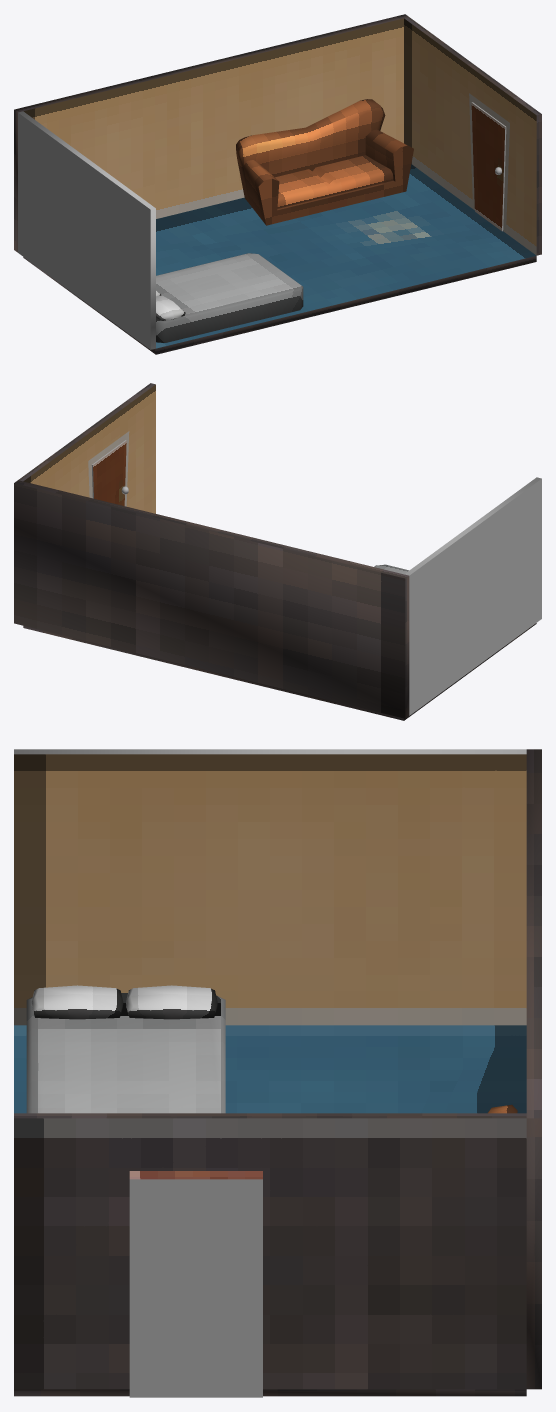
The model's file is RoomImport3.fbx.
3 views of the same model, one above another, from view 1: azimuth 30°, elevation 25°; view 2: azimuth 150°, elevation 25°; view 3: azimuth 270°, elevation 25° (orthographic). The views are drawn at different scales.
Parts seen in each view (by area): view 1: polymsh_detached6, polymsh_detached2, Room, Sofa, polymsh_detached, Mattress, Door, polymsh_detached7, polymsh_detached5, polymsh_detached1, polymsh_detached3; view 2: polymsh_detached5, Room, polymsh_detached, Door, polymsh_detached7, polymsh_detached1, polymsh_detached3; view 3: polymsh_detached8, polymsh_detached1, BrickWall, polymsh_detached2, Mattress, polymsh_detached5, Room, polymsh_detached7.
Boxes of the visible parts, bbox=[...] form: polymsh_detached6: bbox=[23, 18, 403, 218]; polymsh_detached2: bbox=[156, 164, 536, 348]; Room: bbox=[18, 111, 155, 349]; Sofa: bbox=[236, 99, 413, 225]; polymsh_detached: bbox=[404, 18, 536, 255]; Mattress: bbox=[156, 253, 303, 342]; Door: bbox=[471, 102, 506, 231]; polymsh_detached7: bbox=[23, 256, 536, 354]; polymsh_detached5: bbox=[14, 14, 408, 252]; polymsh_detached1: bbox=[404, 17, 541, 255]; polymsh_detached3: bbox=[469, 93, 509, 232]; polymsh_detached5: bbox=[14, 480, 409, 718]; Room: bbox=[404, 477, 541, 715]; polymsh_detached: bbox=[23, 384, 155, 513]; Door: bbox=[91, 440, 128, 505]; polymsh_detached7: bbox=[23, 623, 536, 720]; polymsh_detached1: bbox=[18, 383, 155, 481]; polymsh_detached3: bbox=[88, 431, 129, 506]; polymsh_detached8: bbox=[14, 754, 526, 1025]; polymsh_detached1: bbox=[14, 1113, 526, 1389]; BrickWall: bbox=[129, 1171, 262, 1397]; polymsh_detached2: bbox=[14, 1025, 526, 1113]; Mattress: bbox=[26, 985, 225, 1113]; polymsh_detached5: bbox=[526, 749, 541, 1389]; Room: bbox=[14, 749, 526, 754]; polymsh_detached7: bbox=[14, 1389, 526, 1396].
Bounding box in the file's own units: 13.93 × 4.87 × 8.24.
